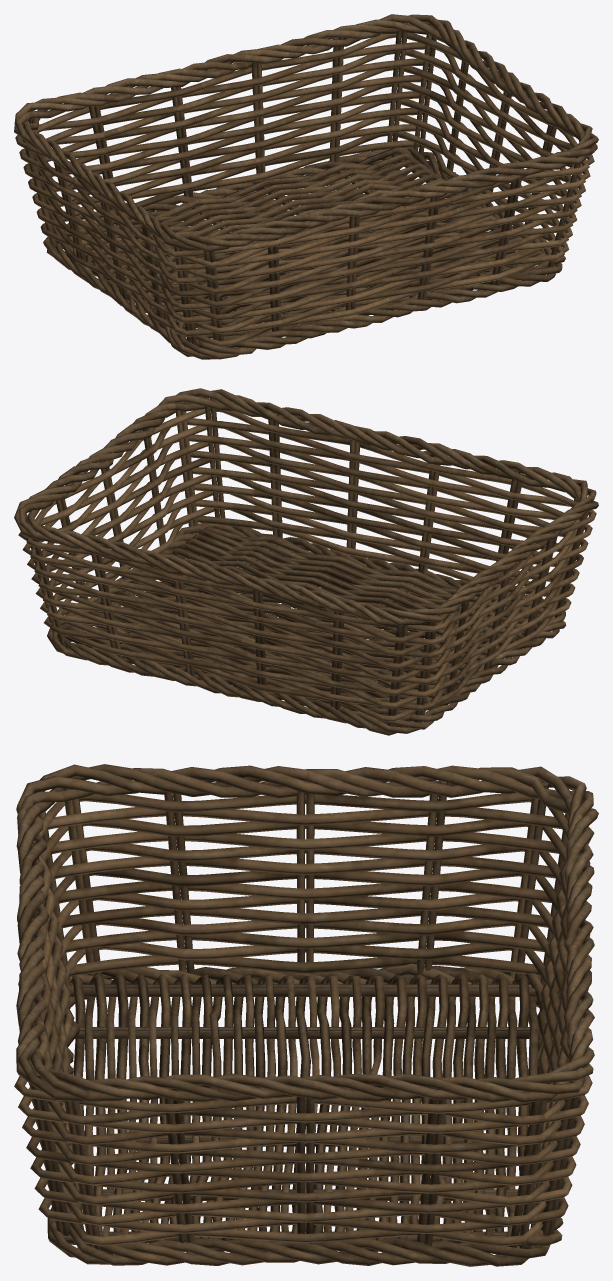
File: wicker_basket_01.glb
3 views of the same model, one above another, from view 1: azimuth 30°, elevation 25°; view 2: azimuth 150°, elevation 25°; view 3: azimuth 270°, elevation 25° (orthographic). The views are drawn at different scales.
Parts seen in each view (by area): view 1: wicker_basket_01; view 2: wicker_basket_01; view 3: wicker_basket_01.
Boxes of the visible parts, x1,y1,x2,y2 form: wicker_basket_01: (14, 14, 598, 359); wicker_basket_01: (14, 388, 598, 735); wicker_basket_01: (14, 764, 598, 1266).
Size of the model in its own units: 2 by 0.6129 by 1.54.
1 material, 1 textured.
